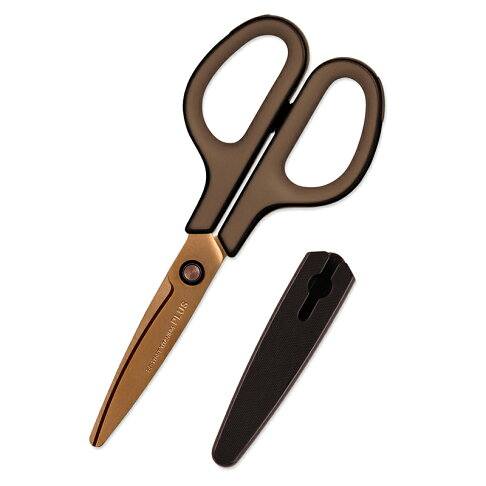scissors: (87, 12, 390, 448)
